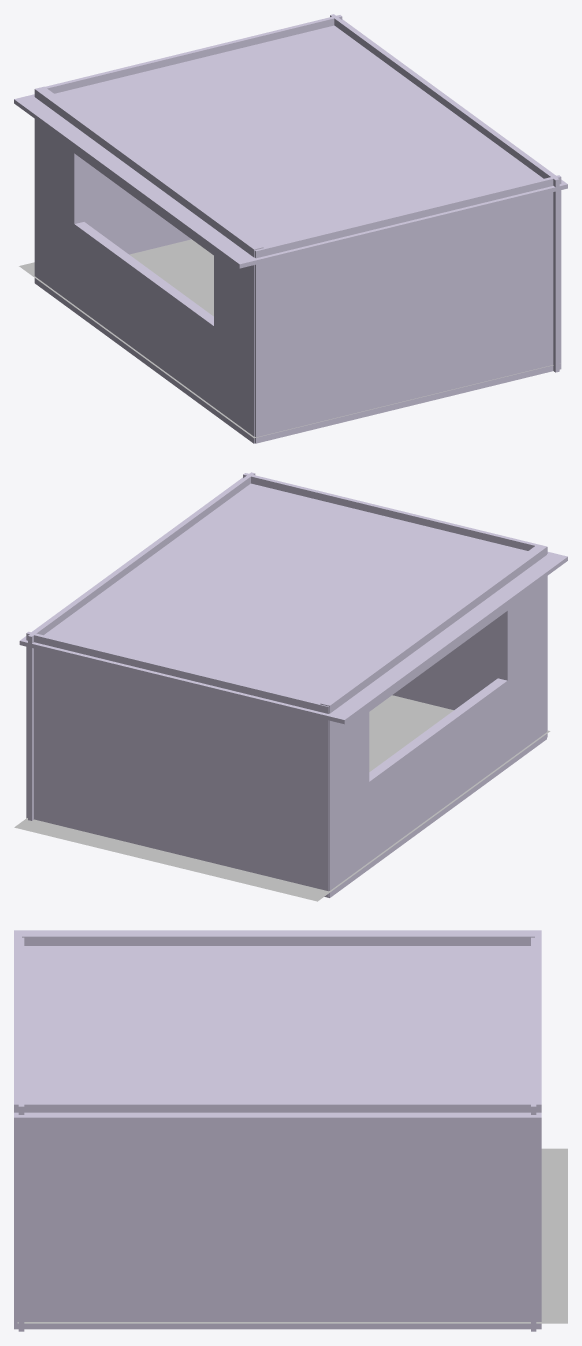
The model's file is bedroom.gltf.
3 renders of one model, top to bottom at view 1: azimuth 30°, elevation 25°; view 2: azimuth 150°, elevation 25°; view 3: azimuth 270°, elevation 25°, orthographic. The views are drawn at different scales.
Parts seen in each view (by area): view 1: Cube.004, Cube.001, Cube, Cube.002, kitchen_wood_diff_4k.003, Cube.003; view 2: Cube.004, Cube.002, Cube, kitchen_wood_diff_4k.003, Cube.001, Cube.003; view 3: Cube.003, Cube.004, Cube, kitchen_wood_diff_4k.003, Cube.001, Cube.002.
Part boxes in pixels (x1,y1,x2,y2): Cube.004: (14, 19, 567, 268); Cube.001: (254, 175, 561, 443); Cube: (34, 86, 263, 443); Cube.002: (45, 15, 342, 254); kitchen_wood_diff_4k.003: (19, 239, 560, 438); Cube.003: (330, 14, 559, 372); Cube.004: (19, 477, 567, 724); Cube.002: (26, 631, 329, 897); Cube: (320, 544, 546, 897); kitchen_wood_diff_4k.003: (14, 695, 550, 901); Cube.001: (243, 473, 547, 737); Cube.003: (28, 472, 255, 820); Cube.003: (14, 1102, 541, 1329); Cube.004: (14, 930, 541, 1122); Cube: (22, 931, 534, 945); kitchen_wood_diff_4k.003: (17, 1148, 567, 1323); Cube.001: (18, 932, 24, 1331); Cube.002: (531, 932, 536, 1331).
Bounding box in the file's own units: 22.46 × 12.71 × 28.08.
